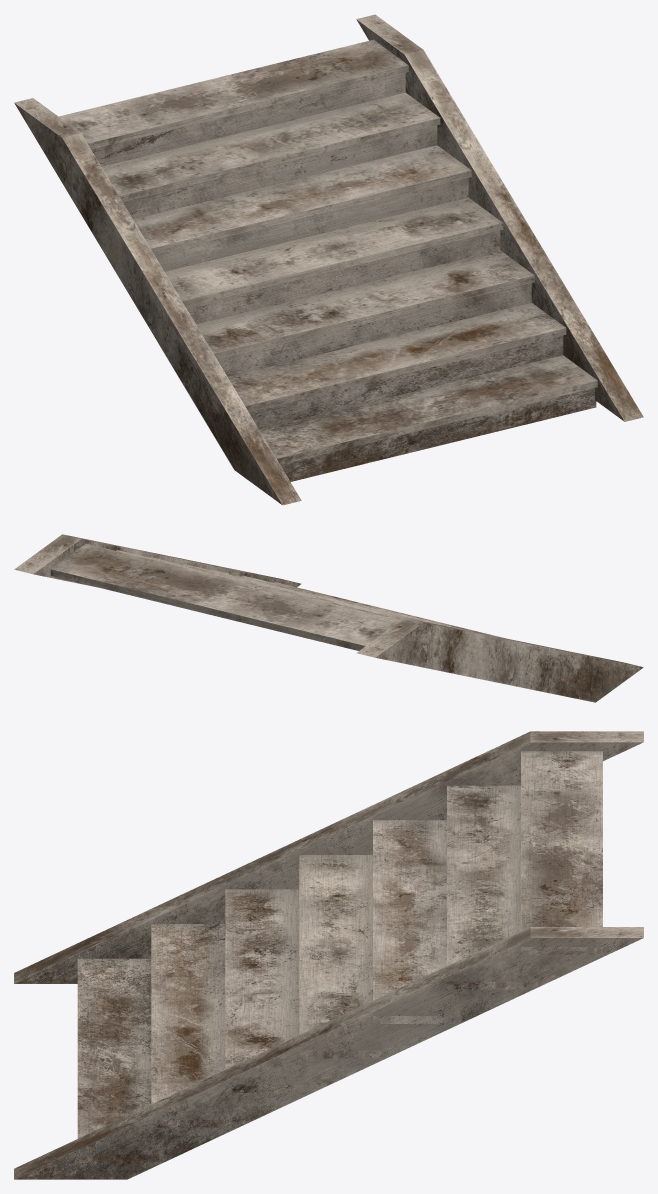
Rendered from stairs.glb.
3 views of the same model, one above another, from view 1: azimuth 30°, elevation 25°; view 2: azimuth 150°, elevation 25°; view 3: azimuth 270°, elevation 25° (orthographic). The views are drawn at different scales.
Parts seen in each view (by area): view 1: stairs_AH; view 2: stairs_AH; view 3: stairs_AH.
Part boxes in pixels (<box>): stairs_AH: <box>14,14,643,505</box>; stairs_AH: <box>14,534,643,702</box>; stairs_AH: <box>14,731,643,1179</box>.
Size of the model in its own units: 1.55 by 0.8786 by 2.
Materials: 1 (1 with a texture image).
